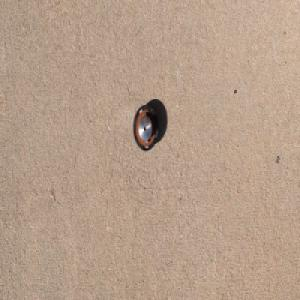FuelCap: (132, 102, 159, 152)
